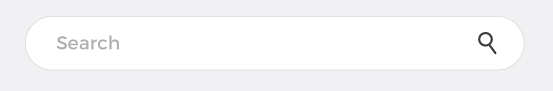searchIcon: (476, 31, 500, 57)
